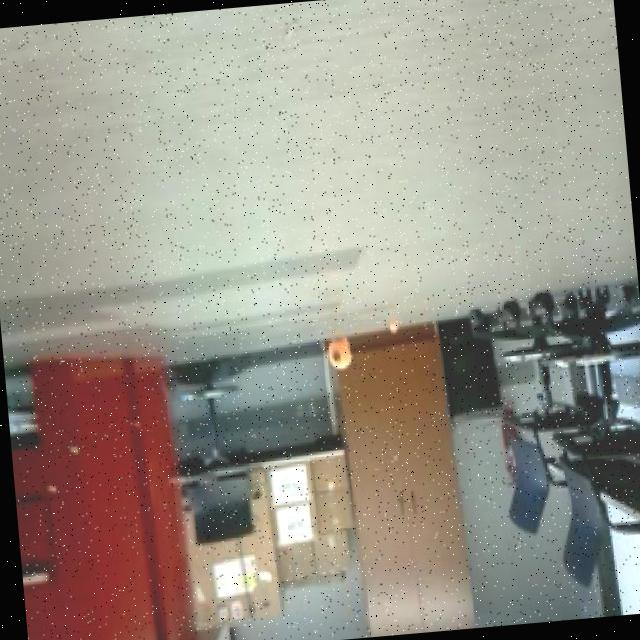ping-pong-ball: (324, 328, 354, 374), (383, 314, 401, 339)
